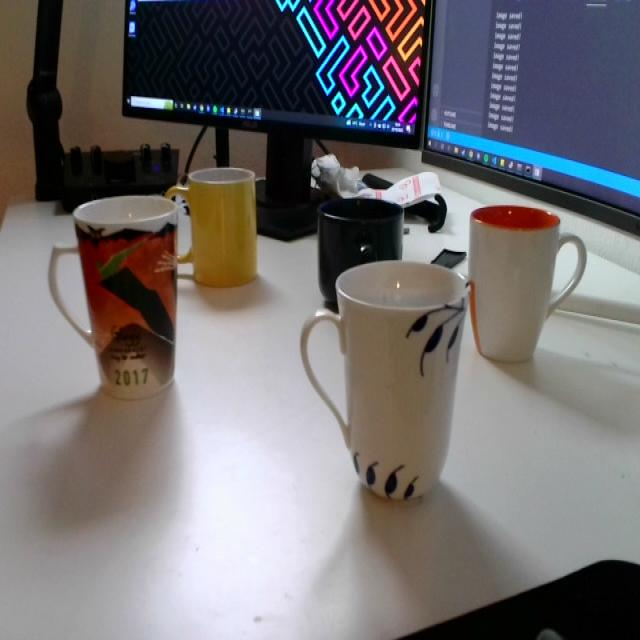Cocio Cup: (186, 168, 258, 286)
Cup: (318, 195, 404, 307)
Halloween cup: (62, 194, 183, 400)
Hand painted cup: (297, 259, 471, 506)
White Cup: (467, 204, 588, 364)
